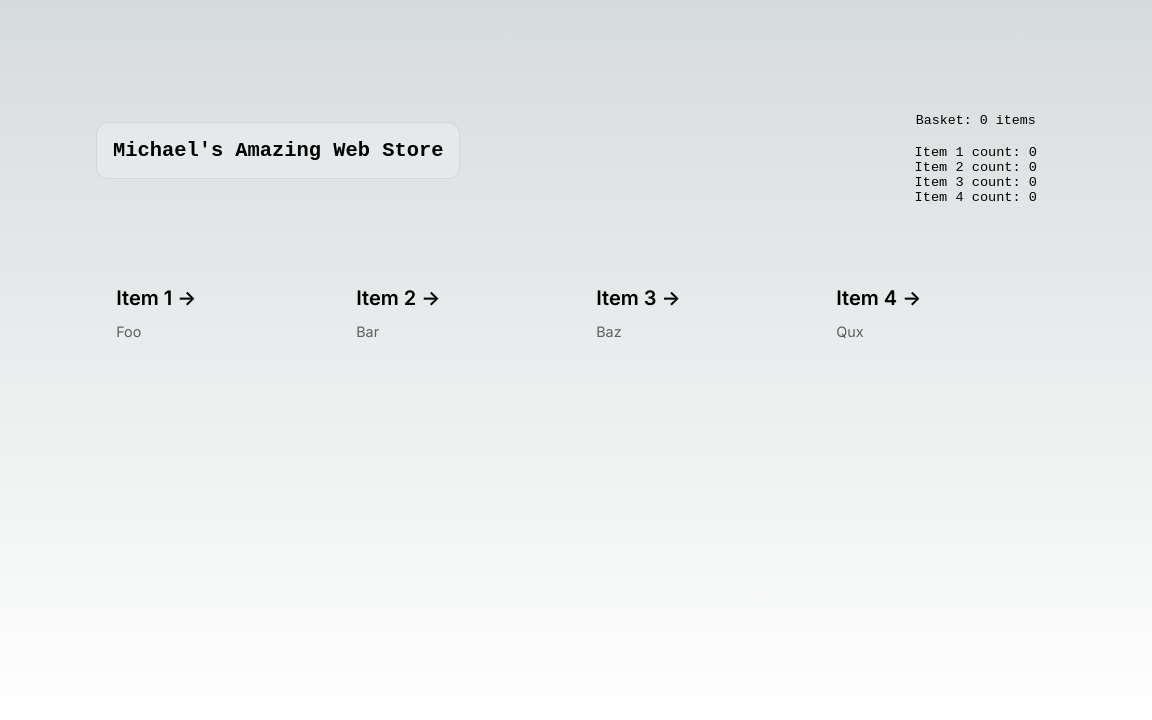
Scenario: Home › renders a basket with 1 of Item 1 and 2 of Item 2
What coordinates should you click on to do the following:
click the button named "Add to basket"
I would click on:
 (216, 314)
Its box is [96, 269, 336, 360].
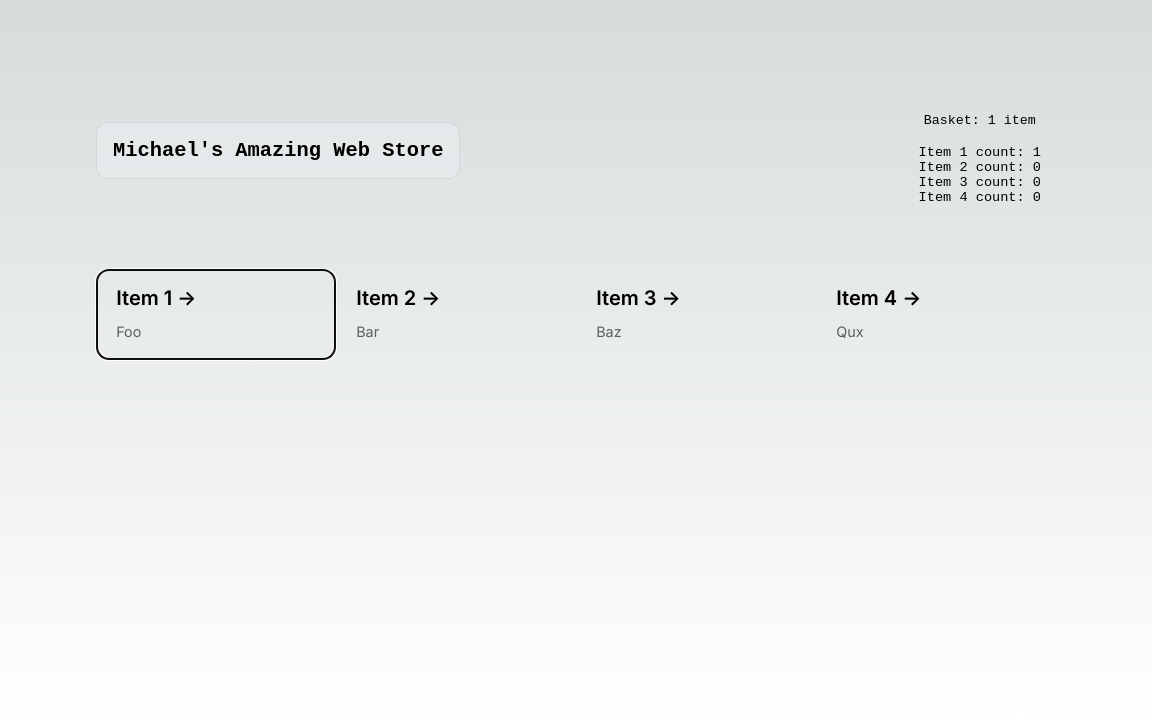
What coordinates should you click on to do the following:
click the button named "Add to basket"
I would click on:
 (456, 314)
Its box is [336, 269, 576, 360].
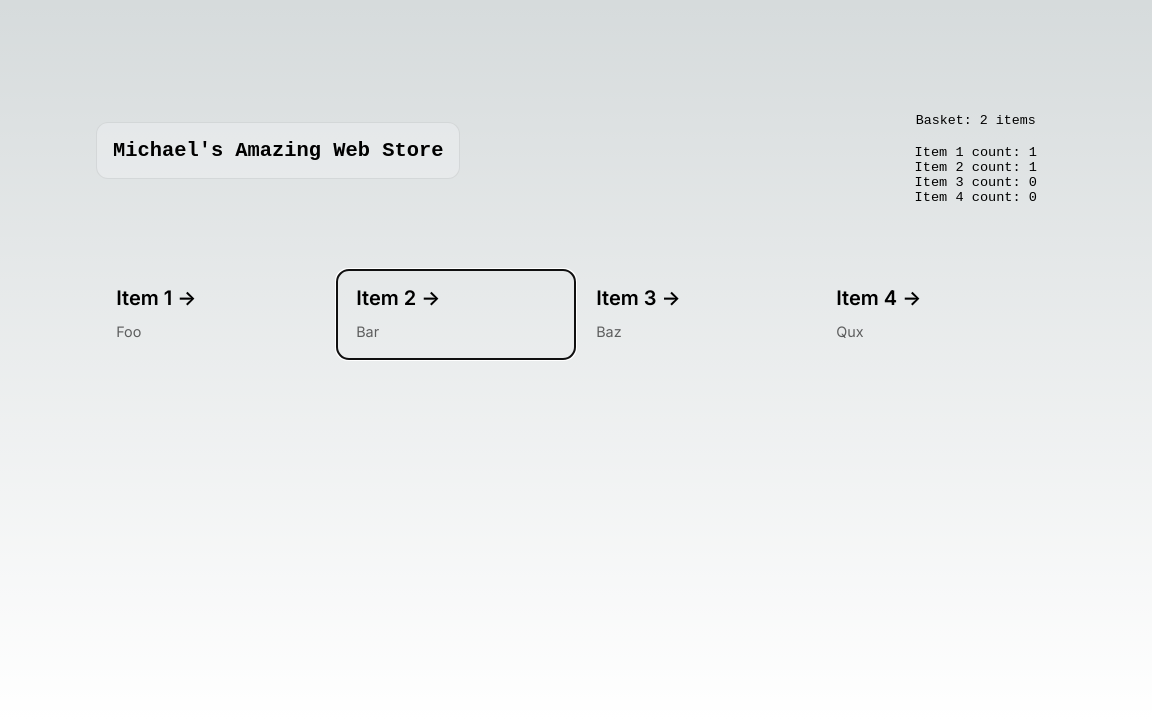
What coordinates should you click on to do the following:
click the button named "Add to basket"
I would click on:
 (456, 314)
Its box is [336, 269, 576, 360].
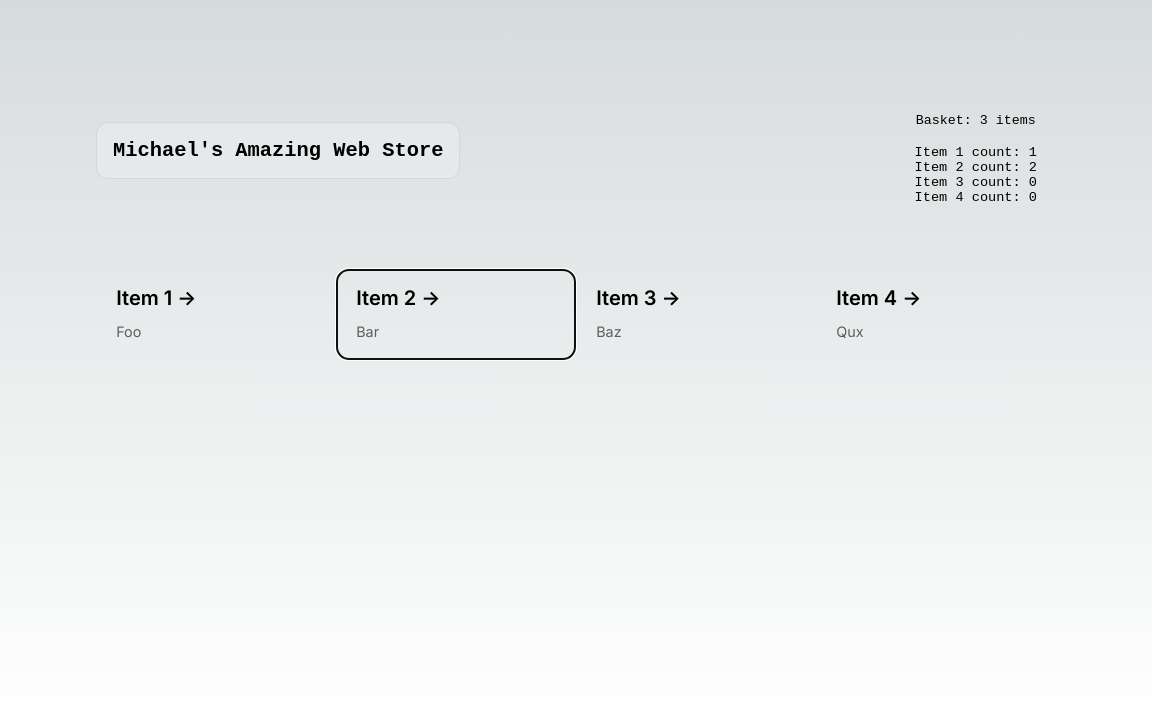
Expected: the list item "Item 1 count: 1" is shown, [915, 145, 1037, 160]
Expected: the button "Basket: 3 items" is shown, [896, 96, 1056, 145]
Expected: the list item "Item 2 count: 2" is shown, [915, 160, 1037, 175]
